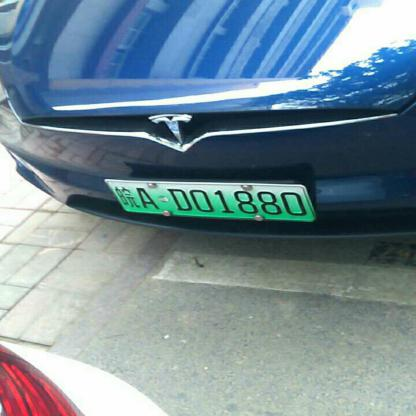lp: (104, 180, 316, 219)
